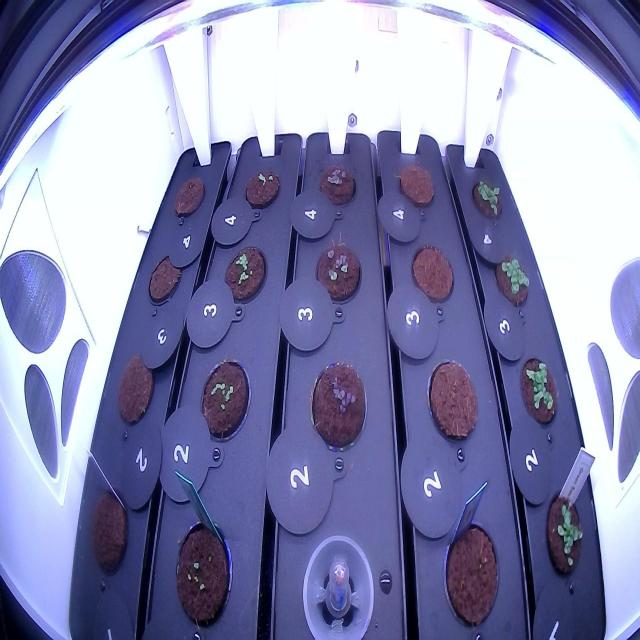germination: (170, 509, 236, 635), (306, 352, 370, 456), (196, 351, 252, 449), (303, 226, 366, 308), (542, 482, 588, 588), (515, 348, 564, 435), (218, 237, 269, 312), (491, 243, 536, 314), (466, 166, 510, 228), (240, 157, 284, 214), (315, 157, 359, 211)
pod: (437, 512, 502, 632), (422, 353, 481, 451), (86, 486, 135, 580), (407, 237, 457, 313), (113, 348, 156, 433), (395, 155, 441, 213), (146, 248, 182, 313), (170, 168, 207, 222)
